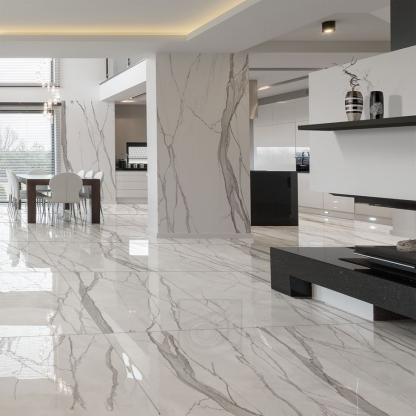Ceramic floor: (0, 204, 414, 415)
